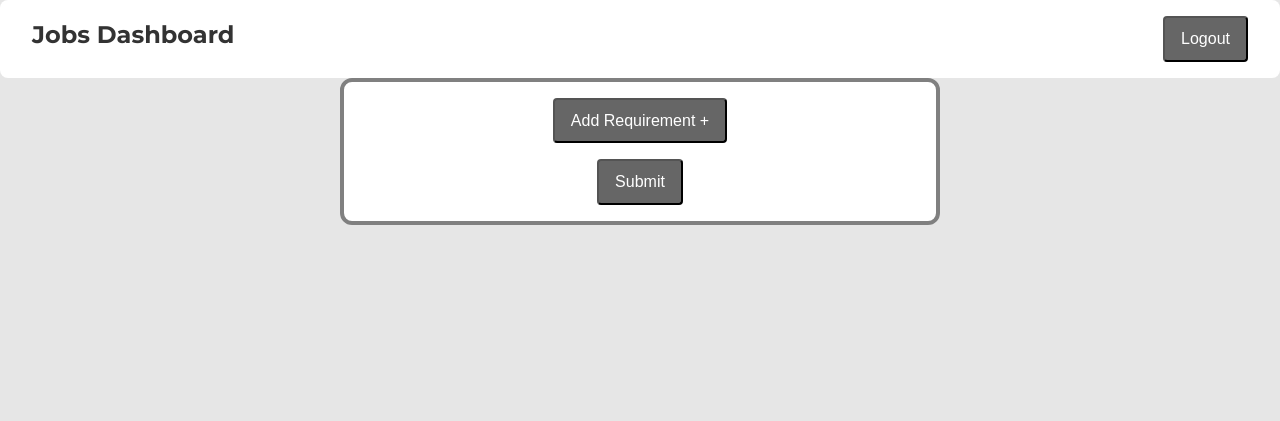
Scenario: /role/$roleId/requirements/add › Adding and removing requirements › adds input fields when the Add Requirement button is pressed
The width and height of the screenshot is (1280, 421).
Click the button "Add Requirement +": (640, 120) [553,98,727,143]
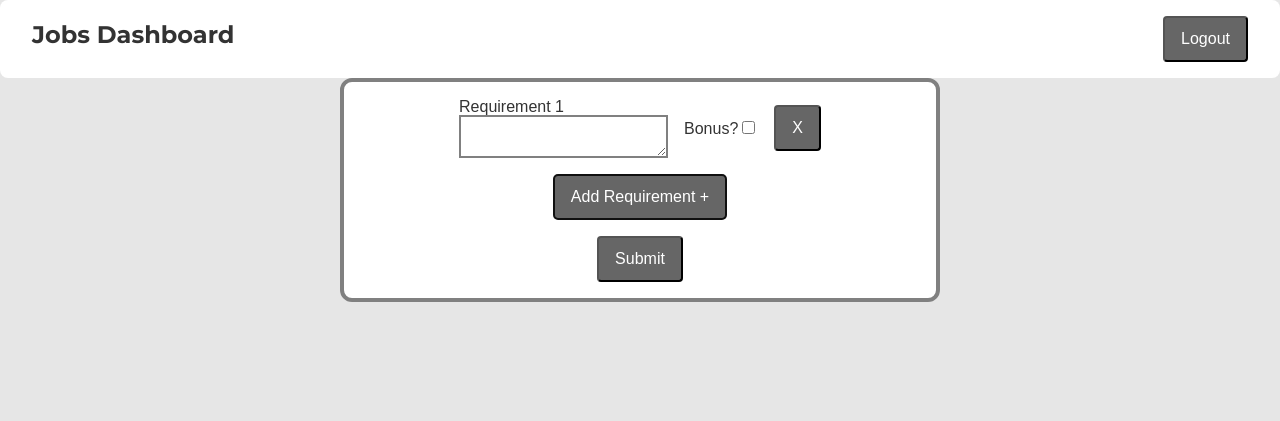
expect the text box labelled "Requirement 1" is shown: met, box [459,115,668,158]
expect the number of checkboxes is 1: met, box [742,121,755,134]
expect the number of buttons "X" is 1: met, box [774,105,821,151]
Click the button "Add Requirement +": (640, 197) [553,174,727,220]
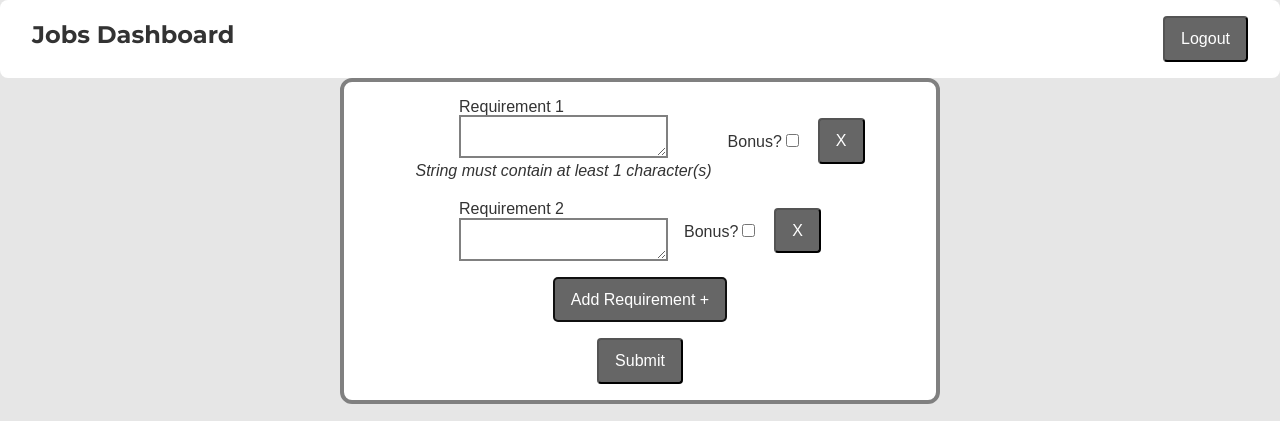
expect the text box labelled "Requirement 2" is shown: met, box [459,218,668,261]
expect the number of checkboxes is 2: met, box [786,134,799,147]; [742,224,755,237]
expect the number of buttons "X" is 2: met, box [818,118,865,164]; [774,208,821,253]
